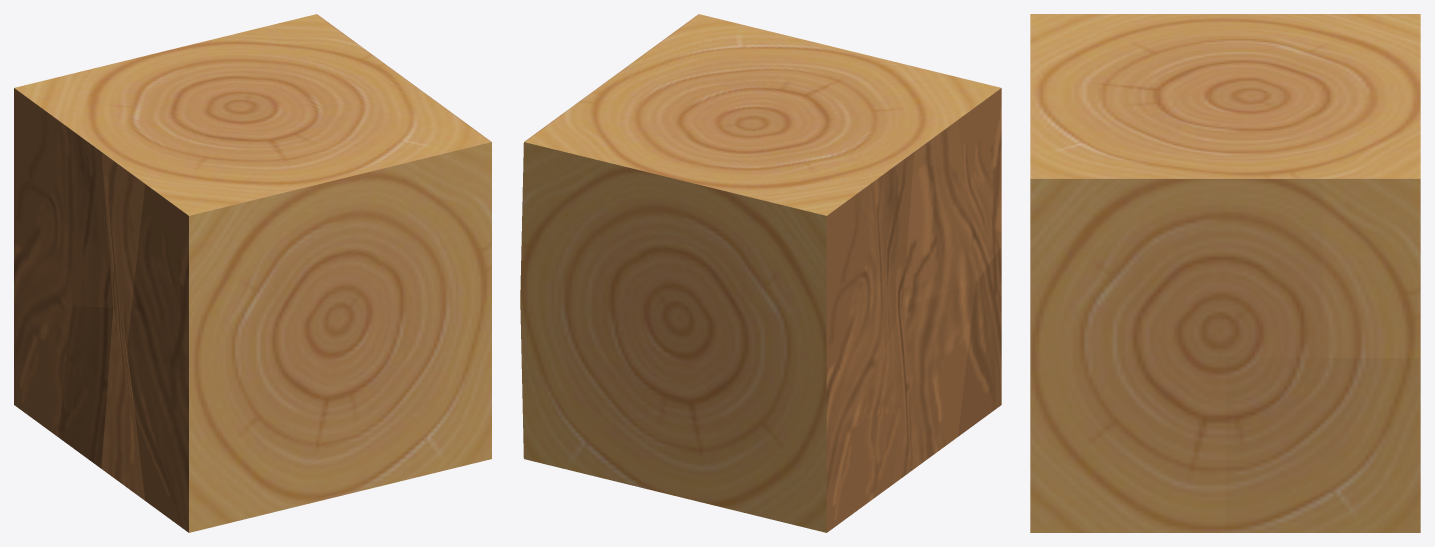
Rendered from Tree3Ways.fbx.
The picture shows the model from 3 angles, left to right: view 1: azimuth 30°, elevation 25°; view 2: azimuth 150°, elevation 25°; view 3: azimuth 270°, elevation 25°; orthographic projection. The views are drawn at different scales.
Visible parts, largest first — view 1: TreeRightLeft.001; view 2: TreeRightLeft.001; view 3: TreeRightLeft.001.
Boxes of the visible parts, x1,y1,x2,y2 form: TreeRightLeft.001: (14, 14, 491, 532); TreeRightLeft.001: (520, 14, 1001, 532); TreeRightLeft.001: (1030, 14, 1420, 532).
Size of the model in its own units: 214 by 200 by 200.
Materials: 1 (1 with a texture image).
